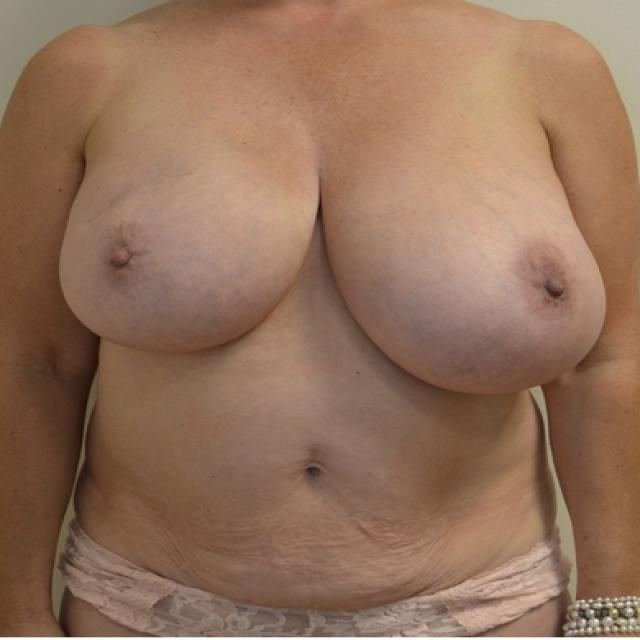Seno ileso: (325, 138, 613, 408), (52, 140, 316, 367)
